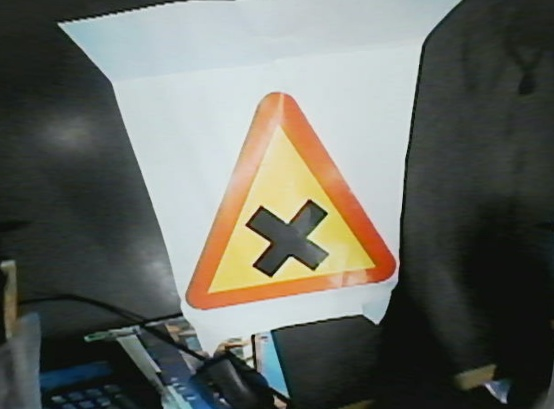junction: (150, 75, 418, 317)
